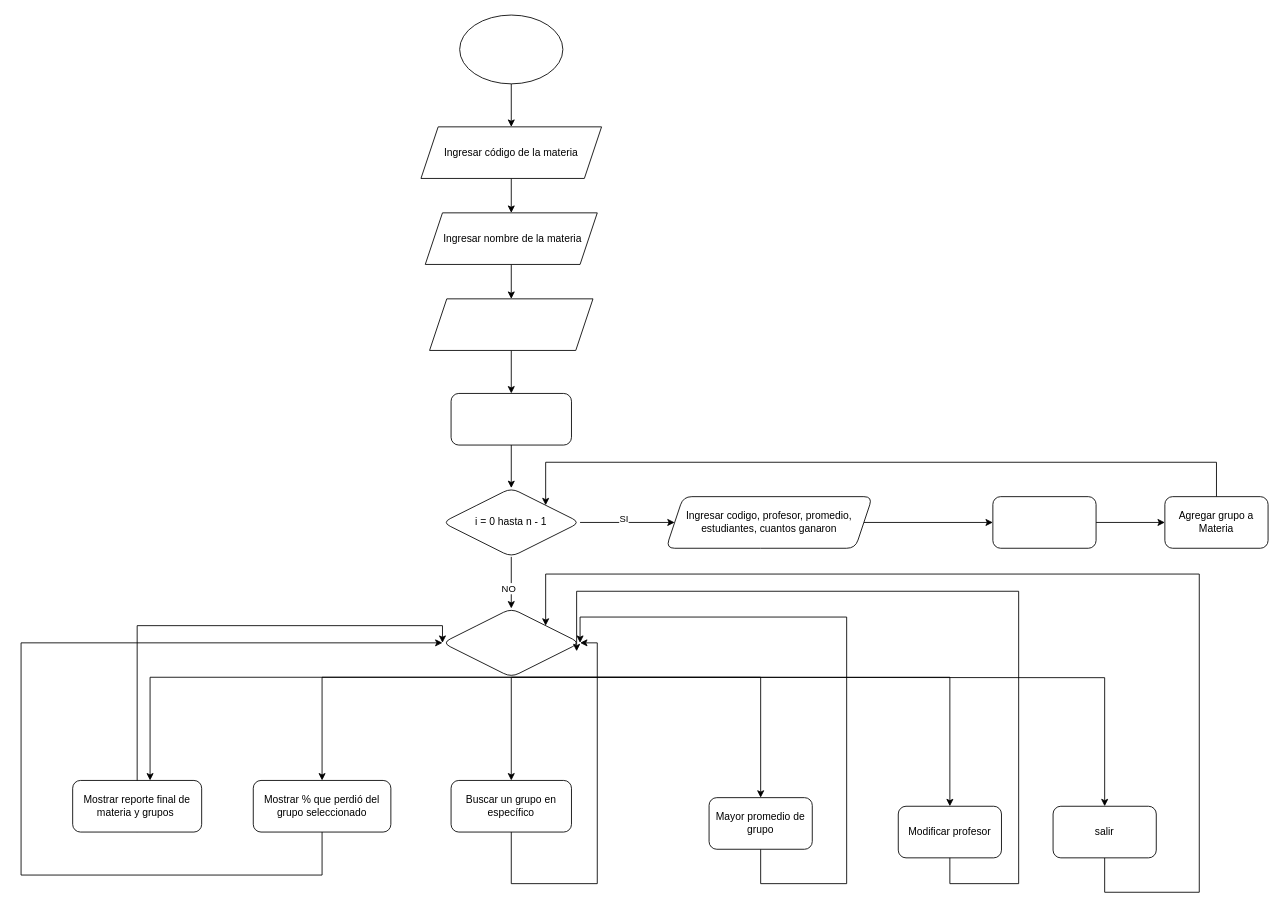
The diagram is 1283 pixels wide and 914 high, and some of its shapes have lost their labels. The shapes that lost their labels are listed below. From the top down, each one's box as (x1, y1, x2, y2) in pixels, then its label:
(459, 14, 563, 84): Inicio
(429, 298, 593, 350): Ingresar numero de grupos
(450, 393, 571, 445): Crear objeto Materia
(992, 496, 1096, 548): Crear objeto GrupoMateria
(442, 608, 580, 677): Mostrar Menu
